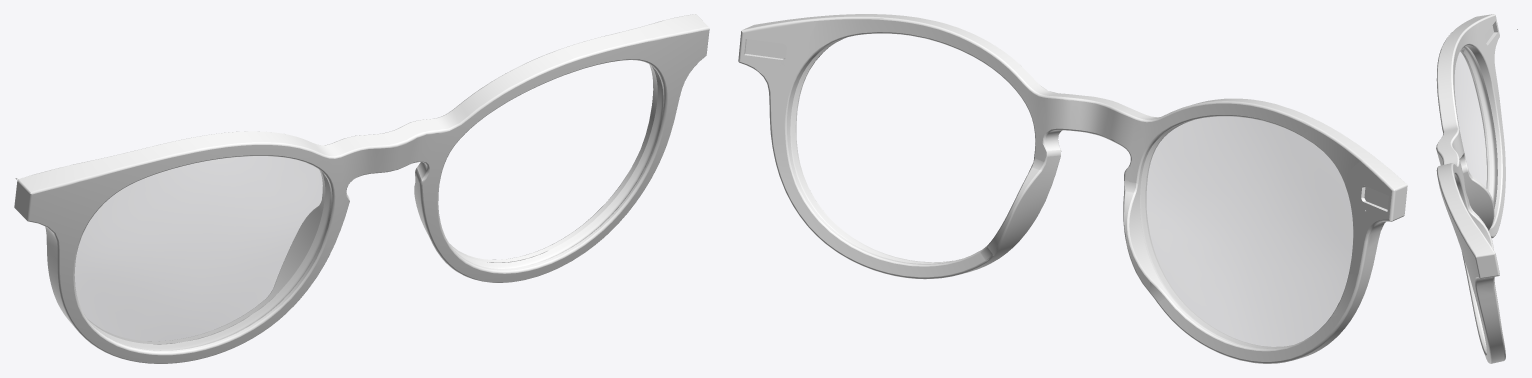
3 renders of one model, left to right at view 1: azimuth 30°, elevation 25°; view 2: azimuth 150°, elevation 25°; view 3: azimuth 270°, elevation 25°, orthographic. The views are drawn at different scales.
Visible parts, largest first — view 1: FRONTALE, LENTE_DX; view 2: FRONTALE, LENTE_DX; view 3: FRONTALE, LENTE_DX.
Part boxes in pixels (box(x1,y1,x2,y2)): FRONTALE: box(14, 14, 709, 363); LENTE_DX: box(75, 156, 330, 350); FRONTALE: box(738, 14, 1407, 363); LENTE_DX: box(1140, 116, 1352, 348); FRONTALE: box(1436, 14, 1505, 363); LENTE_DX: box(1455, 46, 1497, 207).
Bounding box in the file's own units: 1.35 × 0.4622 × 0.1944.
3 materials, 1 textured.
